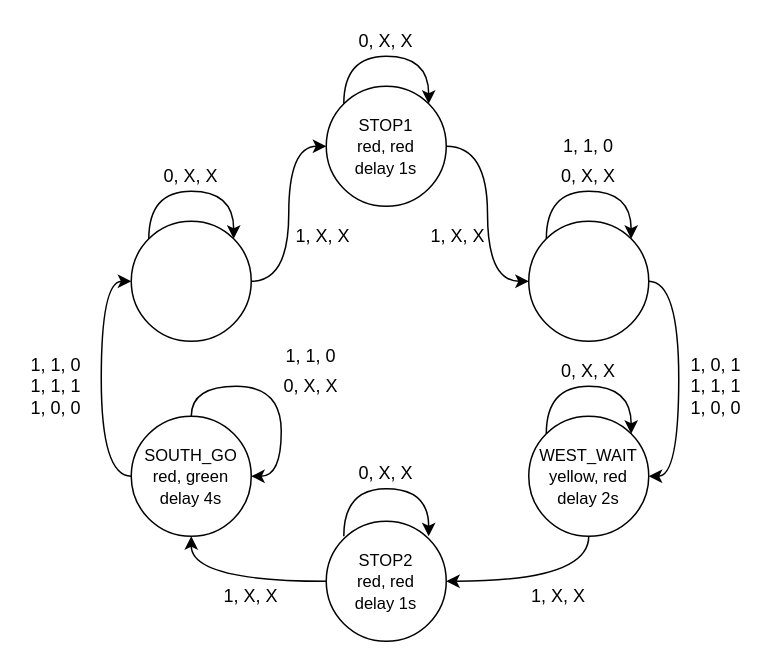
Image size: 771x668. Some labels were removed from this diagram. The shapes that lost their labels are listed below. From the top down, each one's centre as x and y in pixels, then its label:
[190,280]: SOUTH_WAIT red, yellow delay 2s
[588,280]: WEST_GO green, red delay 4s
